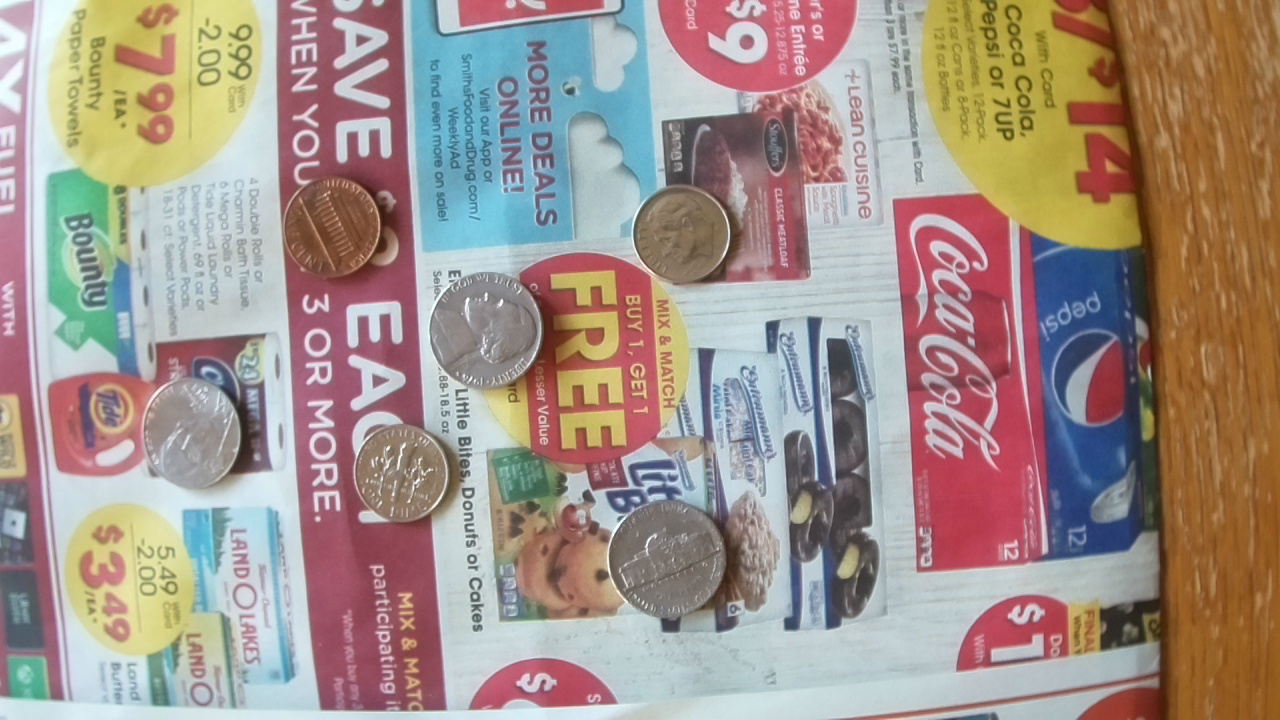dime: (631, 185, 731, 284), (353, 423, 450, 522)
nickel: (607, 497, 727, 620), (425, 271, 543, 389), (140, 377, 241, 490)
penny: (281, 174, 382, 282)
